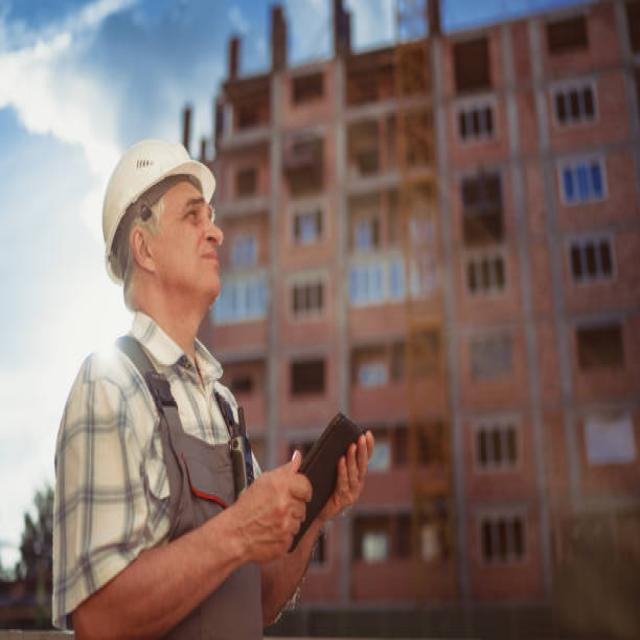without_helmet: (112, 183, 225, 367)
